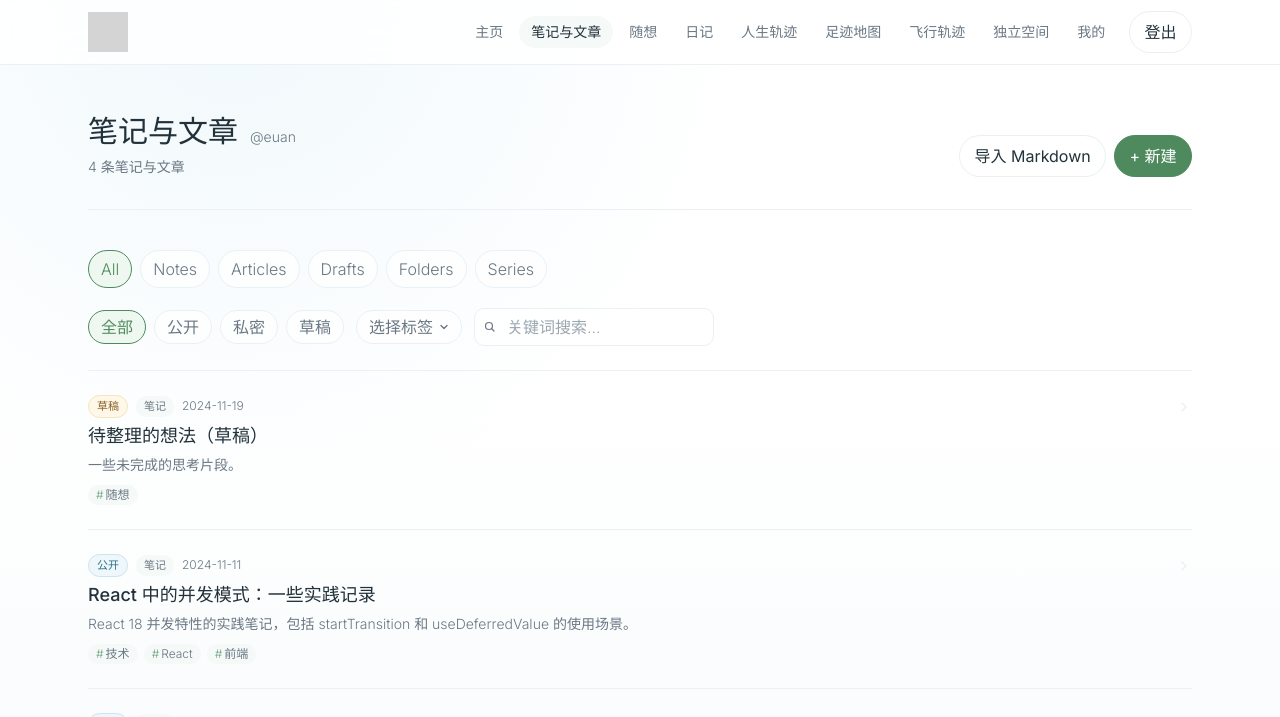
Scenario: folders view › can go back to the folder list
The width and height of the screenshot is (1280, 717).
Click the button "Folders": (426, 269) [386, 250, 466, 288]
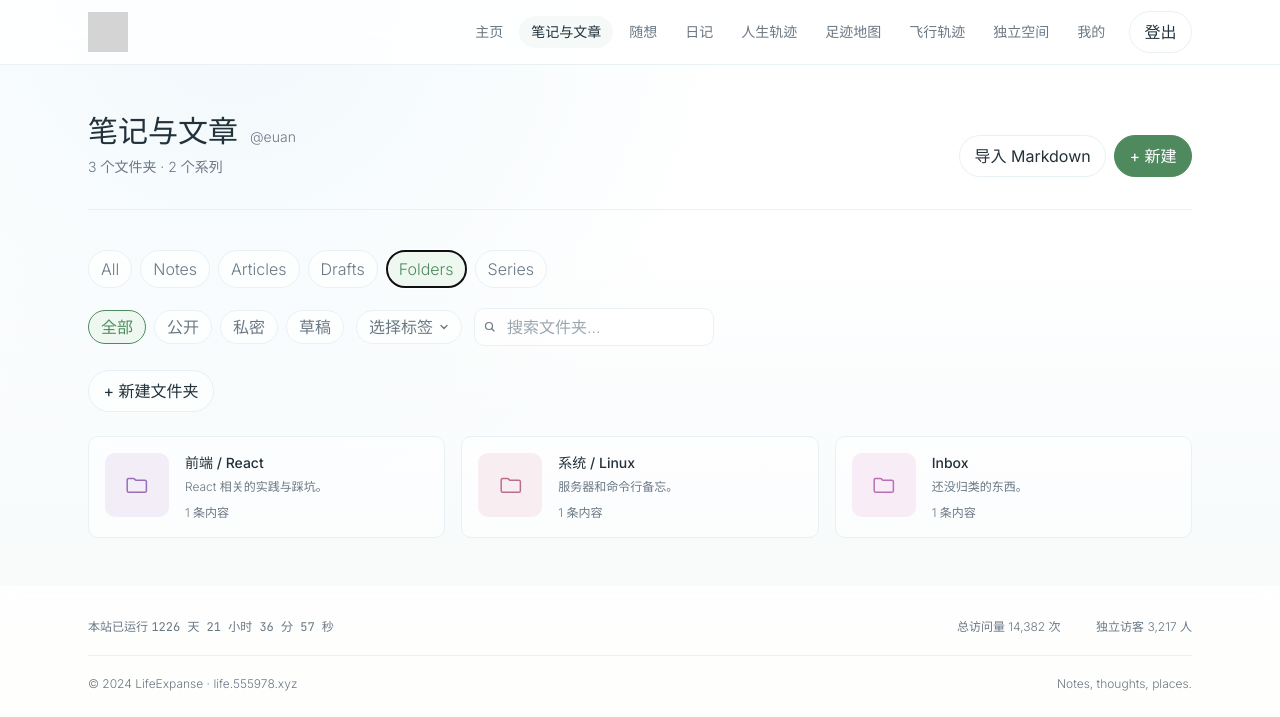
Click the button "前端 / React React 相关的实践与踩坑。 1 条内容": (267, 487) [88, 436, 445, 538]
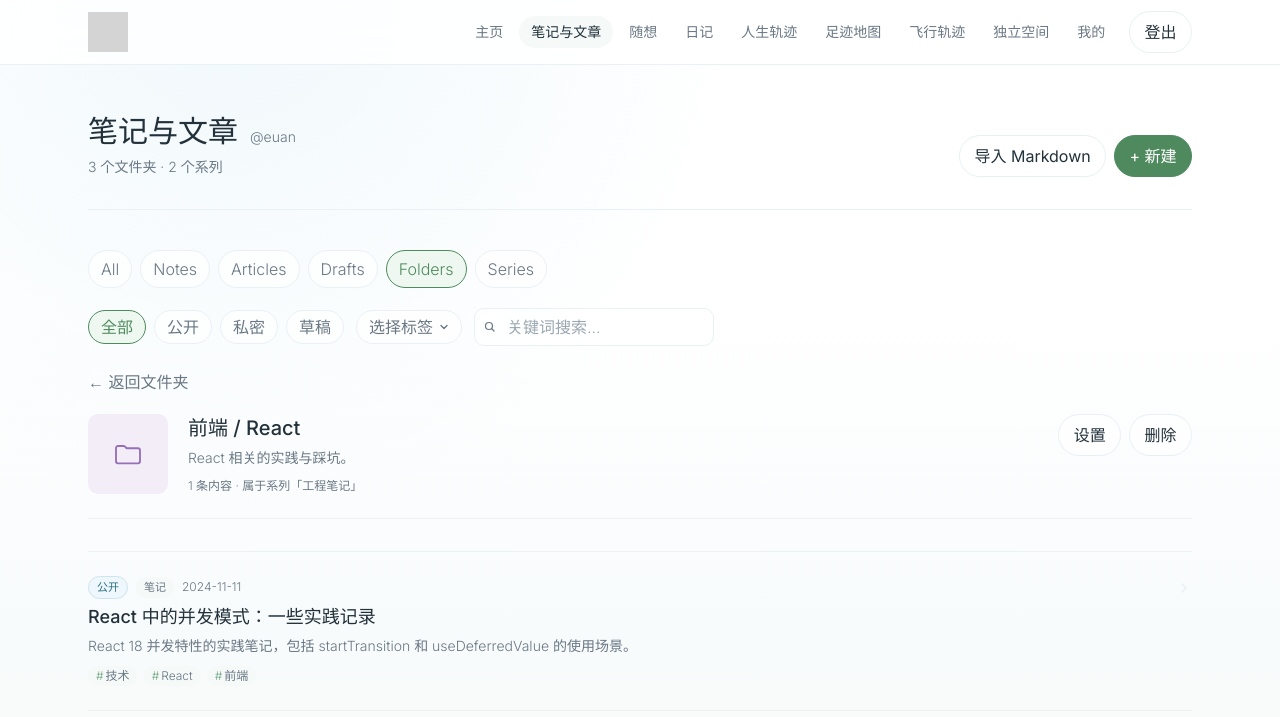
Click the button "← 返回文件夹": (138, 382) [88, 370, 188, 394]
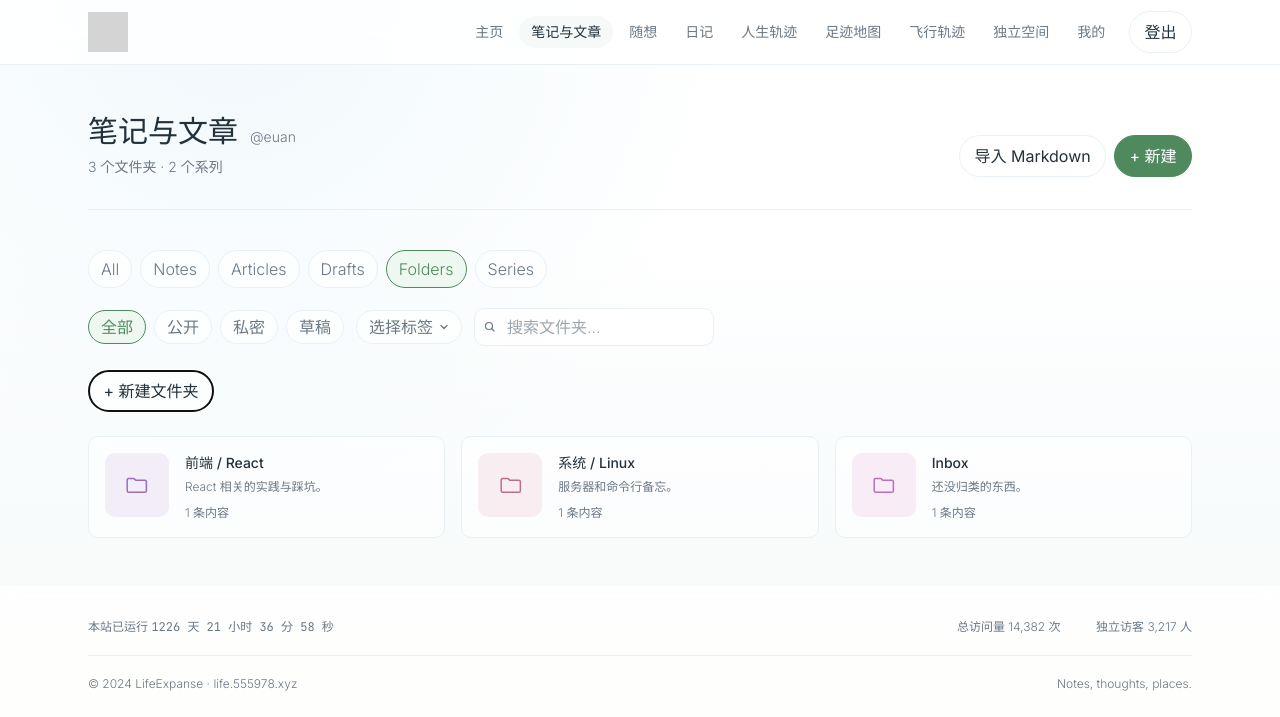
Check: the text "系统 / Linux" is shown, box [558, 454, 635, 471]
